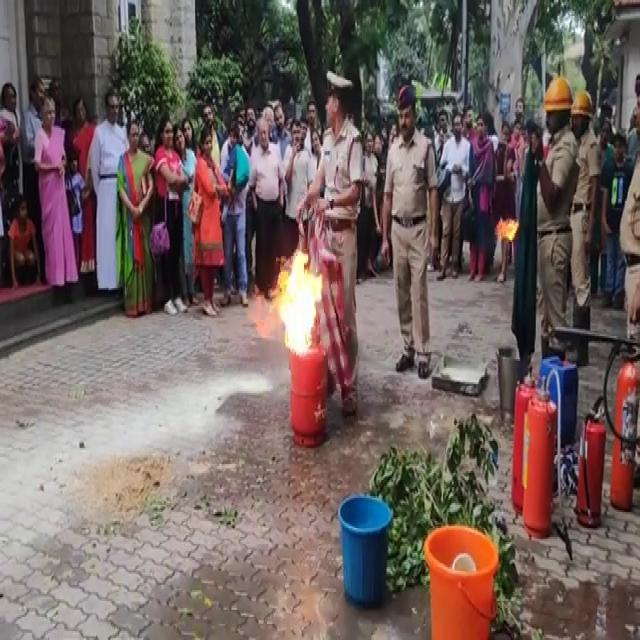fire: (263, 244, 329, 358)
